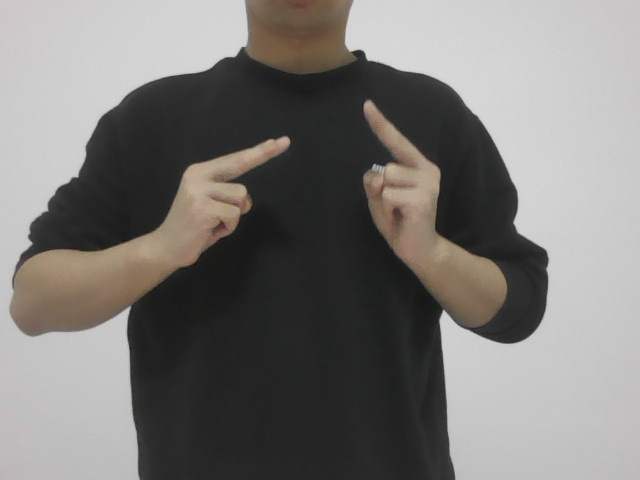know: (152, 110, 439, 277)
